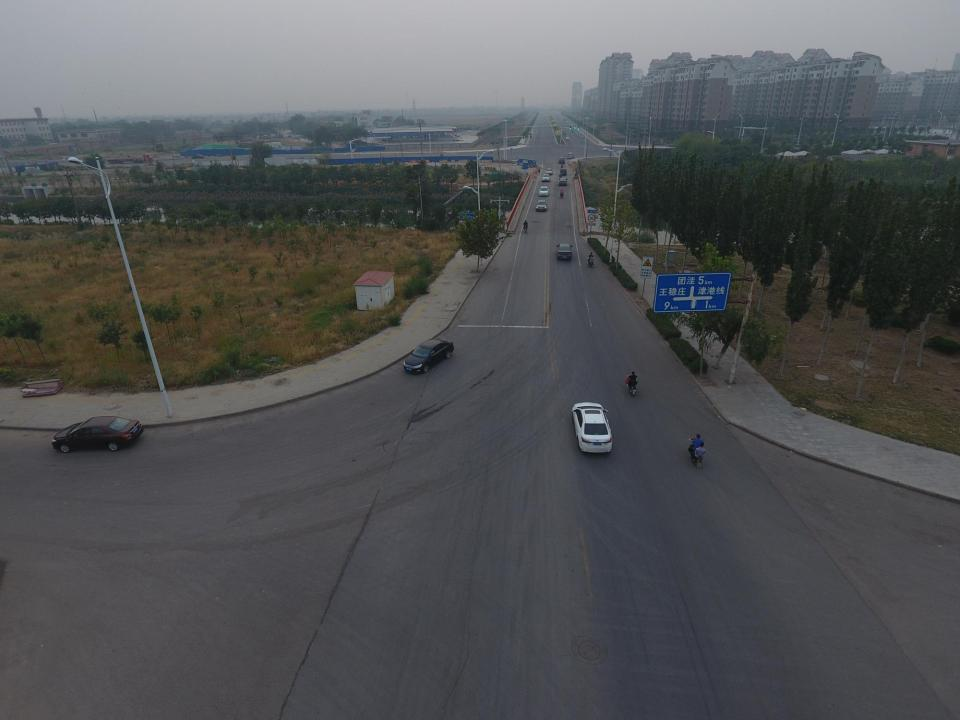car: (52, 416, 143, 453), (403, 338, 454, 372), (556, 243, 573, 260), (535, 200, 548, 210), (539, 186, 549, 196), (558, 178, 567, 186), (542, 174, 550, 182), (566, 137, 570, 140), (559, 126, 562, 129), (468, 131, 470, 133)
van: (572, 402, 612, 452), (560, 168, 567, 176), (566, 152, 574, 159), (558, 158, 565, 164), (400, 136, 406, 140), (457, 134, 459, 137)
